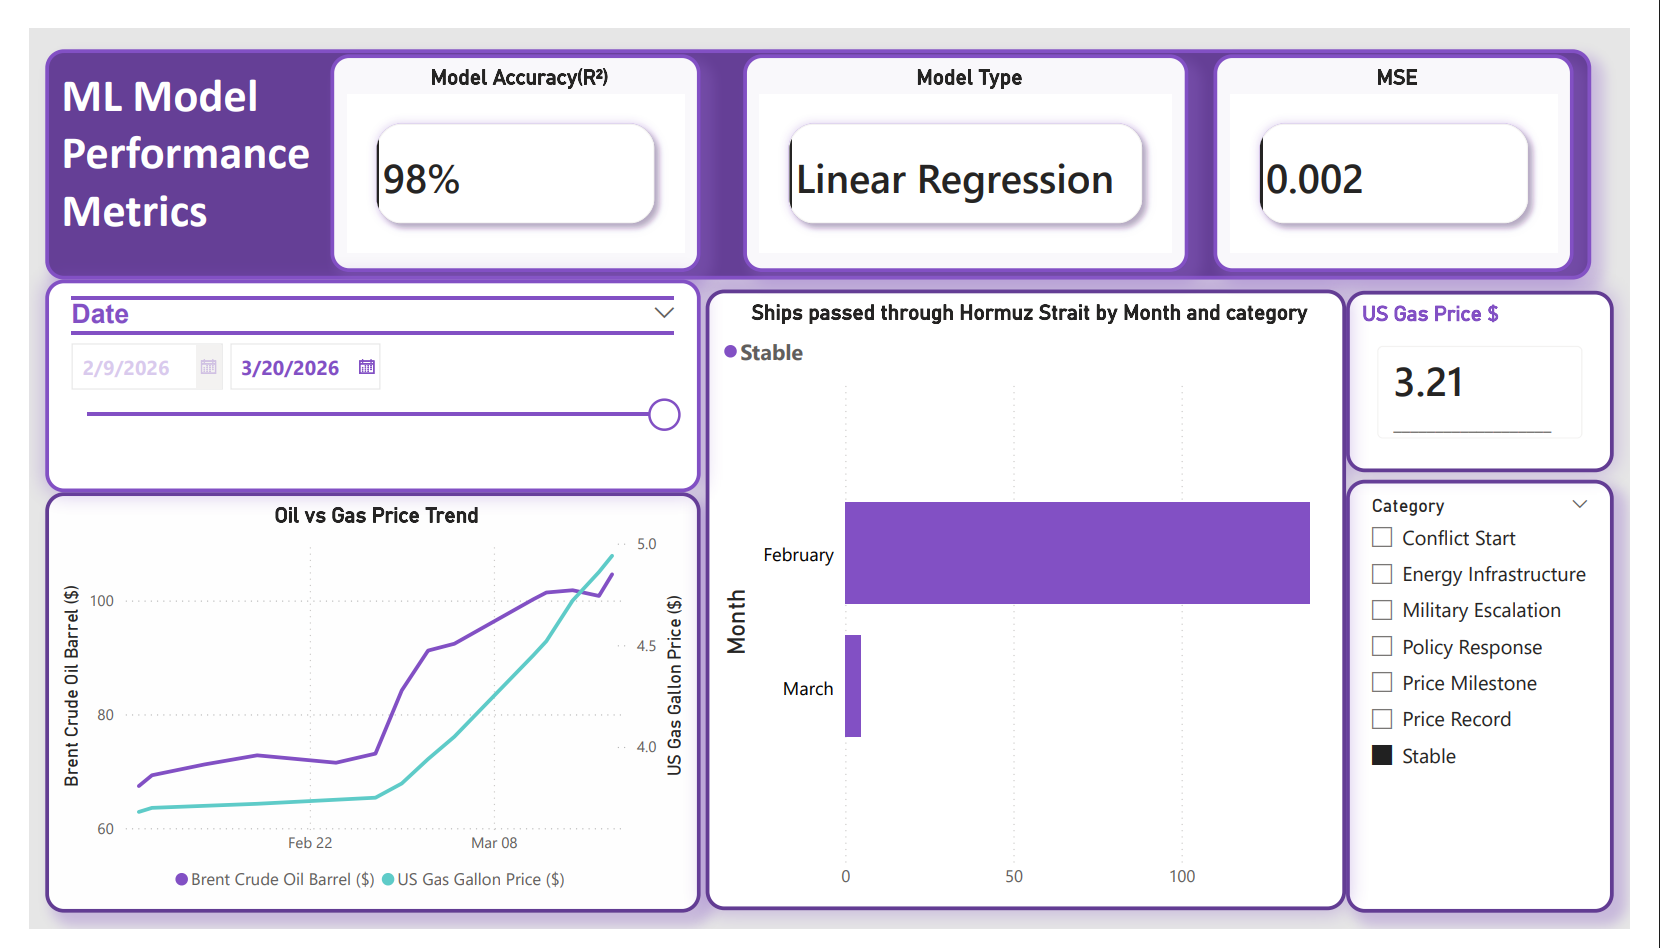

Layout of this report page (visuals, bound fields, positions):
{"tool":"powerbi","page":{"name":"Page 1","canvas":[1280,720],"ordinal":0},"visuals":[{"type":"textbox","box":[13.4,17.1,1236,184],"z":0},{"type":"lineChart","title":"Oil vs Gas Price Trend","fields":{"Y":["Avg(final_war_impact_data.brent_usd_barrel)"],"Y2":["Avg(final_war_impact_data.us_diesel_avg_gallon)"],"Category":["final_war_impact_data.date"]},"box":[13.1,371.1,524.3,335.7],"z":1000},{"type":"slicer","fields":{"Values":["final_war_impact_data.category"]},"box":[1053.1,361.1,214.3,345.7],"z":2000},{"type":"cardVisual","title":"US Gas Price $","fields":{"Data":["Avg(final_war_impact_data.us_gas_avg_gallon)"]},"box":[1053.1,209.7,214.3,145.7],"z":3000},{"type":"clusteredBarChart","fields":{"Y":["Avg(final_war_impact_data.strait_hormuz_daily_ships)"],"Category":["final_war_impact_data.date.Variation.Date Hierarchy.Month","final_war_impact_data.date.Variation.Date Hierarchy.Day"],"Series":["final_war_impact_data.category"]},"box":[541.4,209.1,512,496],"z":4000},{"type":"cardVisual","title":"Model Type","fields":{"Data":["Min(Table.Value)"]},"box":[571.4,21.1,356,174],"z":5000},{"type":"cardVisual","title":"Model Accuracy(R²)","fields":{"Data":["Min(Table.Value)"]},"box":[241.4,21.1,296,174],"z":6000},{"type":"cardVisual","title":"MSE","fields":{"Data":["Min(Table.Value)"]},"box":[947.4,21.1,288,174],"z":7000},{"type":"slicer","fields":{"Values":["final_war_impact_data.date"]},"box":[13.1,201.1,524.3,170],"z":8000}]}

Visuals, with their boxes in screenshot pixels (x1, y1, x2, y2), scaled from the page's 1280x720 canvas onto the 1660x948 screenshot:
textbox: box(17, 23, 1620, 265)
"Oil vs Gas Price Trend" lineChart: box(17, 489, 697, 931)
slicer - final_war_impact_data.category: box(1366, 475, 1644, 931)
"US Gas Price $" cardVisual: box(1366, 276, 1644, 468)
clusteredBarChart - Avg(final_war_impact_data.strait_hormuz_daily_ships) x final_war_impact_data.date.Variation.Date Hierarchy.Month: box(702, 275, 1366, 928)
"Model Type" cardVisual: box(741, 28, 1203, 257)
"Model Accuracy(R²)" cardVisual: box(313, 28, 697, 257)
"MSE" cardVisual: box(1229, 28, 1602, 257)
slicer - final_war_impact_data.date: box(17, 265, 697, 489)
